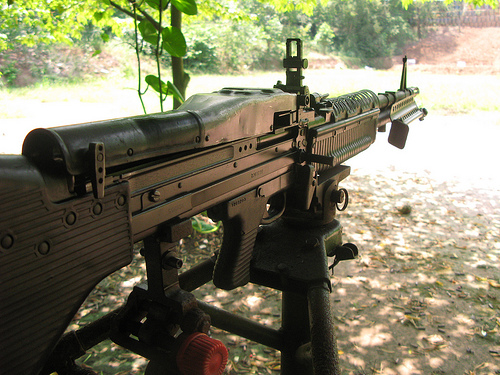rifle: (5, 68, 427, 372)
